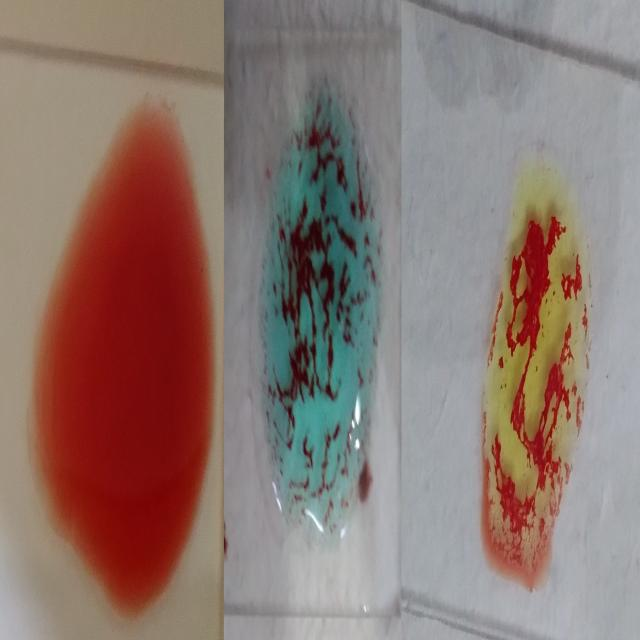A: (258, 71, 383, 557)
B: (487, 155, 593, 586)
